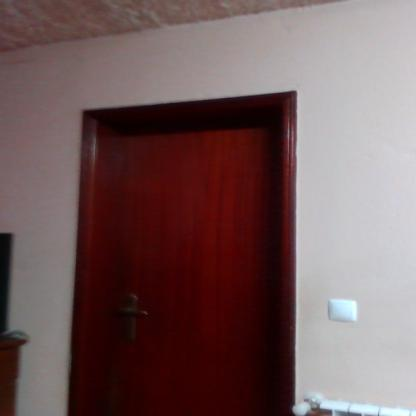door: (98, 122, 282, 416)
lever: (116, 308, 152, 318)
